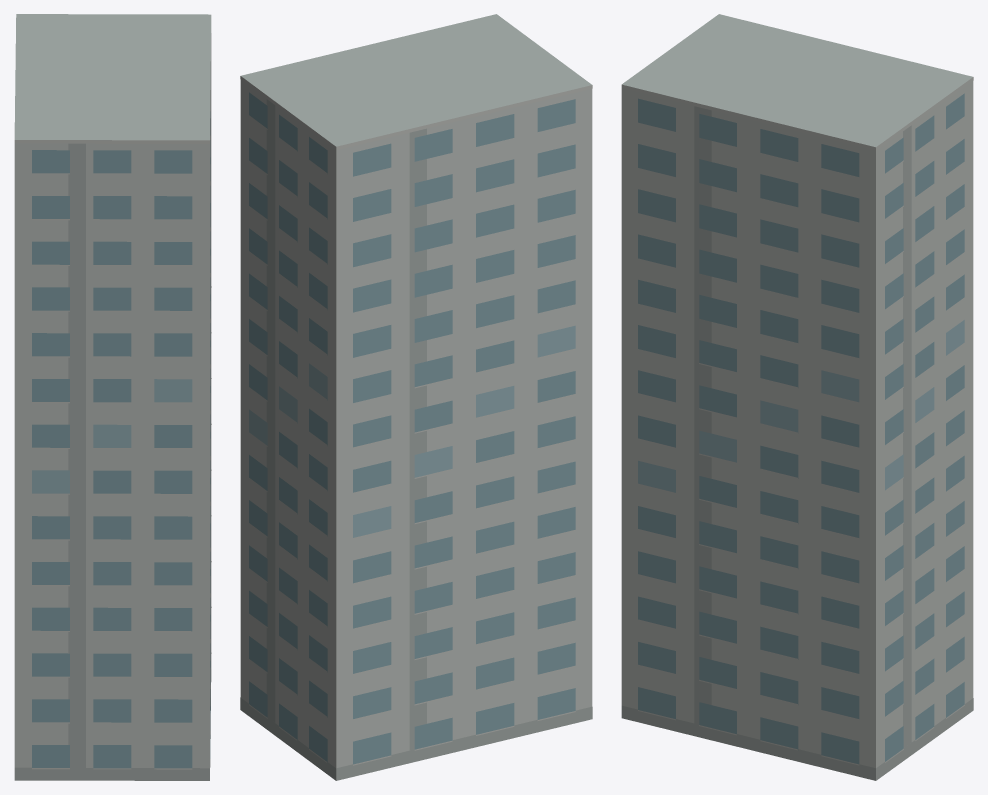
The model's file is residential-3acf27cc-3b33-45a4-af48-300cec90e1c0.glb.
The picture shows the model from 3 angles, left to right: view 1: azimuth 30°, elevation 25°; view 2: azimuth 150°, elevation 25°; view 3: azimuth 270°, elevation 25°; orthographic projection.
Parts seen in each view (by area): view 1: residential-3acf27cc-3b33-45a4-af48-300cec90e1c0.tmp; view 2: residential-3acf27cc-3b33-45a4-af48-300cec90e1c0.tmp; view 3: residential-3acf27cc-3b33-45a4-af48-300cec90e1c0.tmp.
Part boxes in pixels (x1,y1,x2,y2): residential-3acf27cc-3b33-45a4-af48-300cec90e1c0.tmp: (14, 14, 211, 780); residential-3acf27cc-3b33-45a4-af48-300cec90e1c0.tmp: (240, 14, 592, 780); residential-3acf27cc-3b33-45a4-af48-300cec90e1c0.tmp: (621, 14, 973, 780).
Bounding box in the file's own units: 18.96 × 42 × 21.15.
